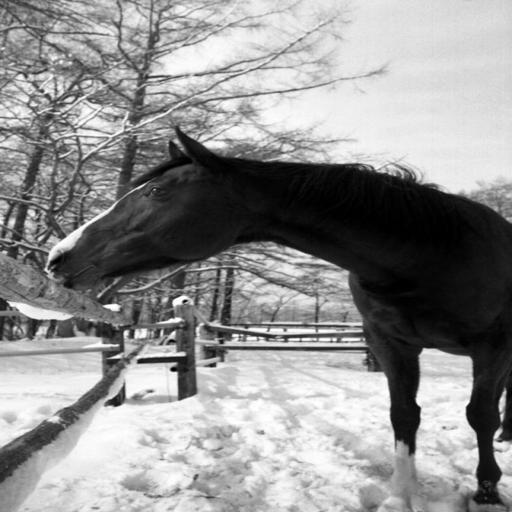Horse: (40, 124, 511, 512)
